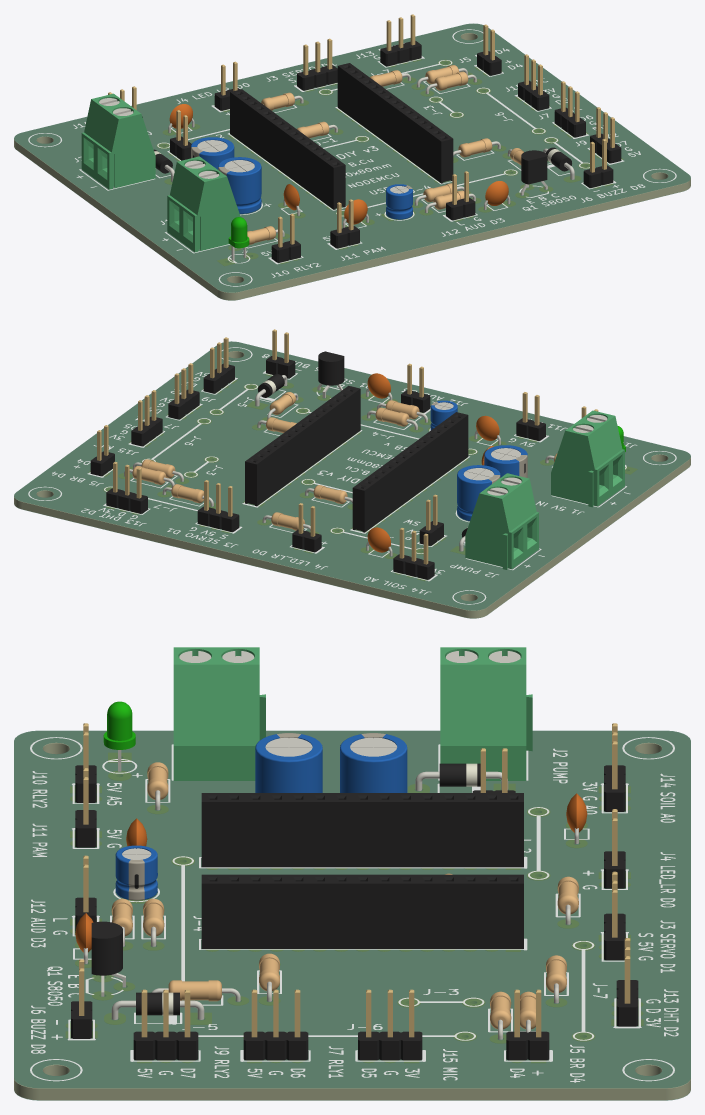
Rendered from smarthome_hub.glb.
3 views of the same model, one above another, from view 1: azimuth 30°, elevation 25°; view 2: azimuth 150°, elevation 25°; view 3: azimuth 270°, elevation 25° (orthographic). The views are drawn at different scales.
Visible parts, largest first — view 1: =>[0:1:1:26], =>[0:1:1:28], =>[0:1:1:3] (×2), =>[0:1:1:5] (×2), =>[0:1:1:25], =>[0:1:1:19] (×5), =>[0:1:1:9] (×7), =>[0:1:1:11] (×2), =>[0:1:1:24], =>[0:1:1:15] (×3), =>[0:1:1:23], =>[0:1:1:21] (+4 smaller); view 2: =>[0:1:1:26], =>[0:1:1:28], =>[0:1:1:3] (×2), =>[0:1:1:5] (×2), =>[0:1:1:19] (×6), =>[0:1:1:25], =>[0:1:1:9] (×6), =>[0:1:1:15] (×6), =>[0:1:1:11] (×2), =>[0:1:1:13] (×3), =>[0:1:1:24], =>[0:1:1:23] (+3 smaller); view 3: =>[0:1:1:26], =>[0:1:1:28], =>[0:1:1:3] (×2), =>[0:1:1:5] (×2), =>[0:1:1:25], =>[0:1:1:19] (×6), =>[0:1:1:11] (×2), =>[0:1:1:9] (×6), =>[0:1:1:15] (×7), =>[0:1:1:24], =>[0:1:1:7] (×2), =>[0:1:1:21] (+4 smaller).
Boxes of the visible parts, left/top/right/bottom form: =>[0:1:1:26]: left=14, top=23, right=690, bottom=292; =>[0:1:1:28]: left=14, top=24, right=690, bottom=300; =>[0:1:1:3] (×2): left=230, top=63, right=453, bottom=209; =>[0:1:1:5] (×2): left=81, top=93, right=240, bottom=252; =>[0:1:1:25]: left=28, top=29, right=676, bottom=286; =>[0:1:1:19] (×5): left=297, top=14, right=621, bottom=163; =>[0:1:1:9] (×7): left=170, top=24, right=613, bottom=262; =>[0:1:1:11] (×2): left=191, top=137, right=261, bottom=213; =>[0:1:1:24]: left=159, top=60, right=612, bottom=265; =>[0:1:1:15] (×3): left=261, top=71, right=500, bottom=157; =>[0:1:1:23]: left=520, top=150, right=547, bottom=195; =>[0:1:1:21]: left=386, top=184, right=412, bottom=219; =>[0:1:1:26]: left=14, top=341, right=690, bottom=610; =>[0:1:1:28]: left=14, top=342, right=690, bottom=618; =>[0:1:1:3] (×2): left=245, top=385, right=468, bottom=532; =>[0:1:1:5] (×2): left=465, top=410, right=624, bottom=569; =>[0:1:1:19] (×6): left=106, top=337, right=434, bottom=579; =>[0:1:1:25]: left=28, top=347, right=676, bottom=604; =>[0:1:1:9] (×6): left=90, top=329, right=545, bottom=552; =>[0:1:1:15] (×6): left=124, top=400, right=427, bottom=531; =>[0:1:1:11] (×2): left=457, top=445, right=527, bottom=520; =>[0:1:1:13] (×3): left=366, top=373, right=500, bottom=556; =>[0:1:1:24]: left=105, top=375, right=636, bottom=580; =>[0:1:1:23]: left=317, top=351, right=344, bottom=398; =>[0:1:1:26]: left=14, top=730, right=690, bottom=1088; =>[0:1:1:28]: left=14, top=731, right=690, bottom=1100; =>[0:1:1:3] (×2): left=201, top=793, right=523, bottom=948; =>[0:1:1:5] (×2): left=173, top=647, right=532, bottom=780; =>[0:1:1:25]: left=30, top=737, right=678, bottom=1082; =>[0:1:1:19] (×6): left=133, top=723, right=638, bottom=1060; =>[0:1:1:11] (×2): left=255, top=733, right=407, bottom=792; =>[0:1:1:9] (×6): left=71, top=723, right=625, bottom=1060; =>[0:1:1:15] (×7): left=143, top=762, right=578, bottom=1039; =>[0:1:1:24]: left=66, top=753, right=642, bottom=1062; =>[0:1:1:7] (×2): left=111, top=763, right=508, bottom=1019; =>[0:1:1:21]: left=115, top=845, right=157, bottom=900.
Bounding box in the file's own units: 0.1 × 0.0173 × 0.08.
